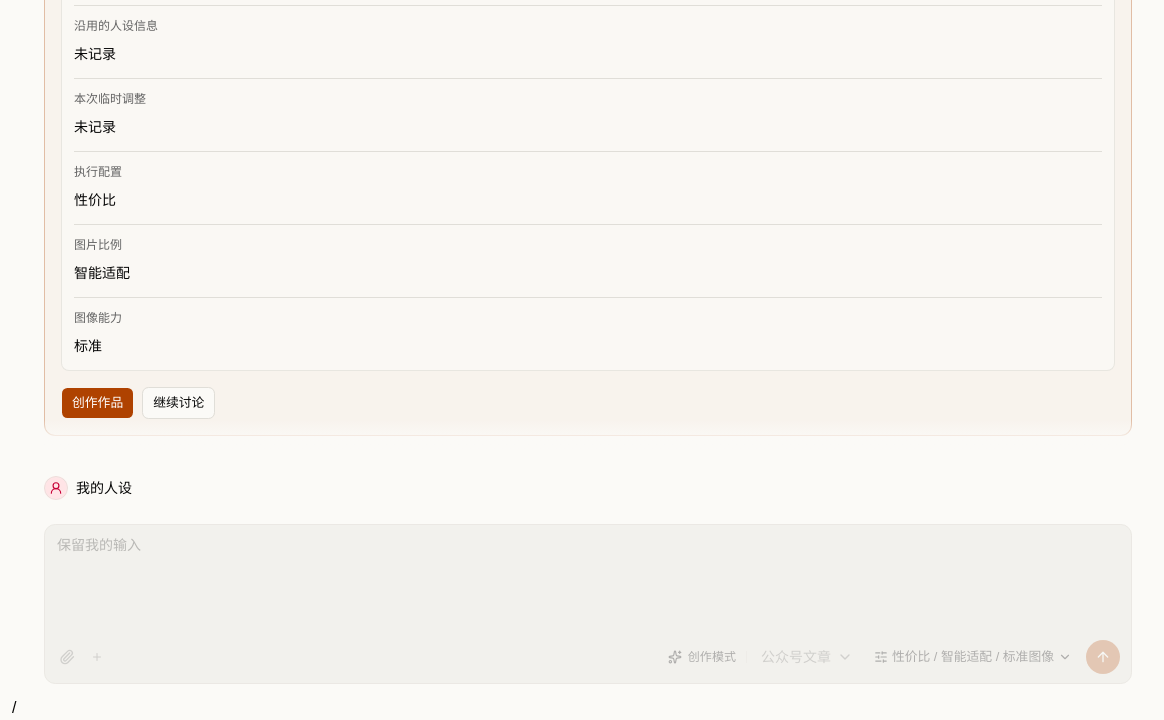
AssistantWorkspace › retains the plan and disables creation and discussion when the result needs reconciliation
(page scrolled)
Click the button "创作作品" at (98, 403), box [61,387,134,419]
(page scrolled)
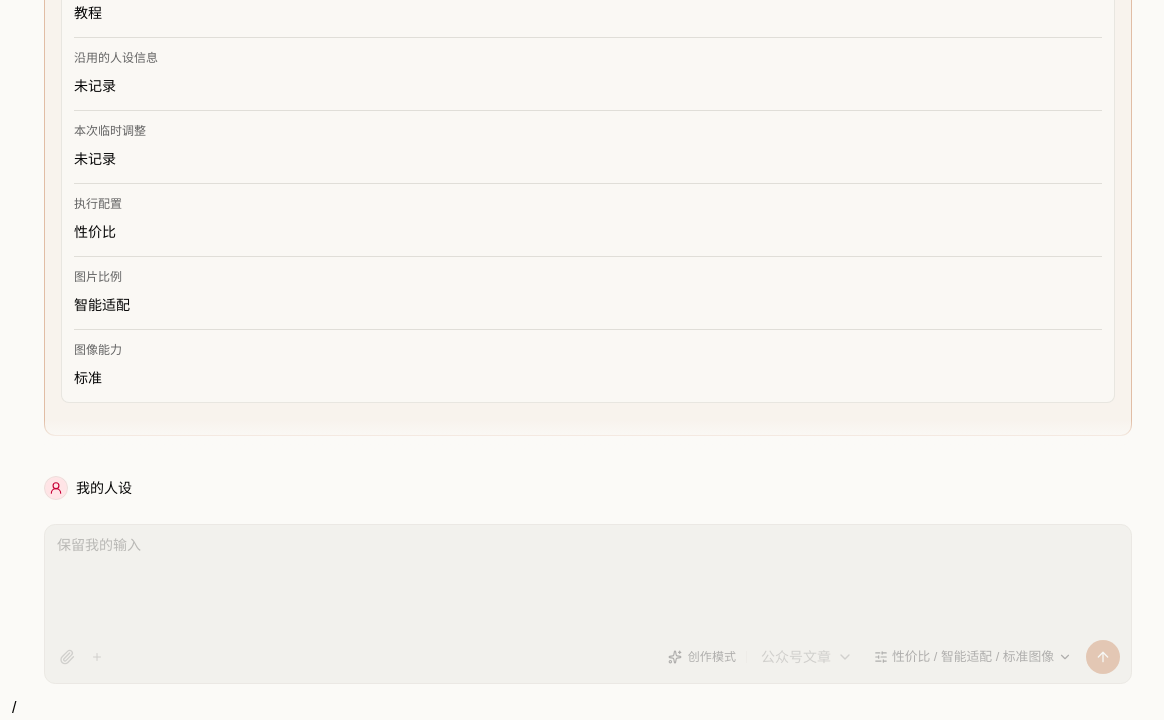
Expected: the text box named "发送消息" is disabled, [45,525,1131,633]
Expected: the button "创作作品" is gone
Expected: the button "继续讨论" is gone
